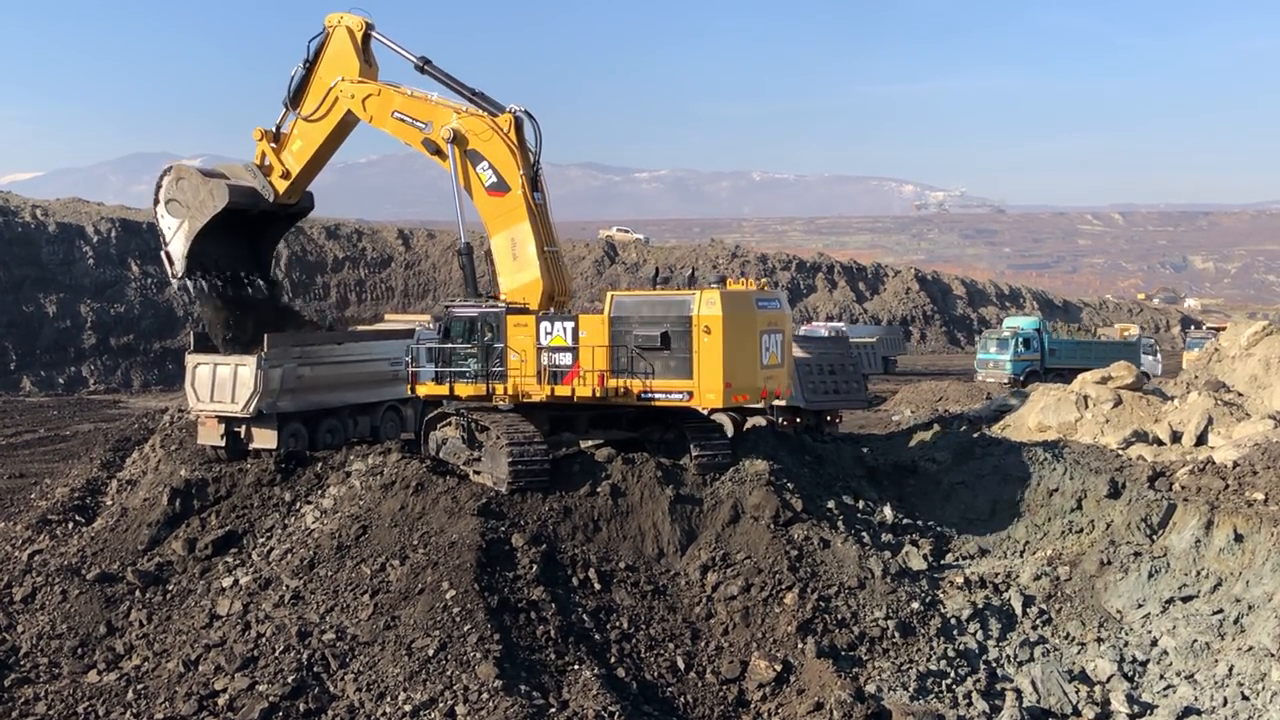empty: (148, 152, 324, 294)
